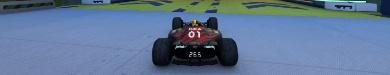Car: (151, 16, 238, 66)
grass: (60, 0, 389, 18)
obstacles-Borders: (0, 0, 56, 13)
